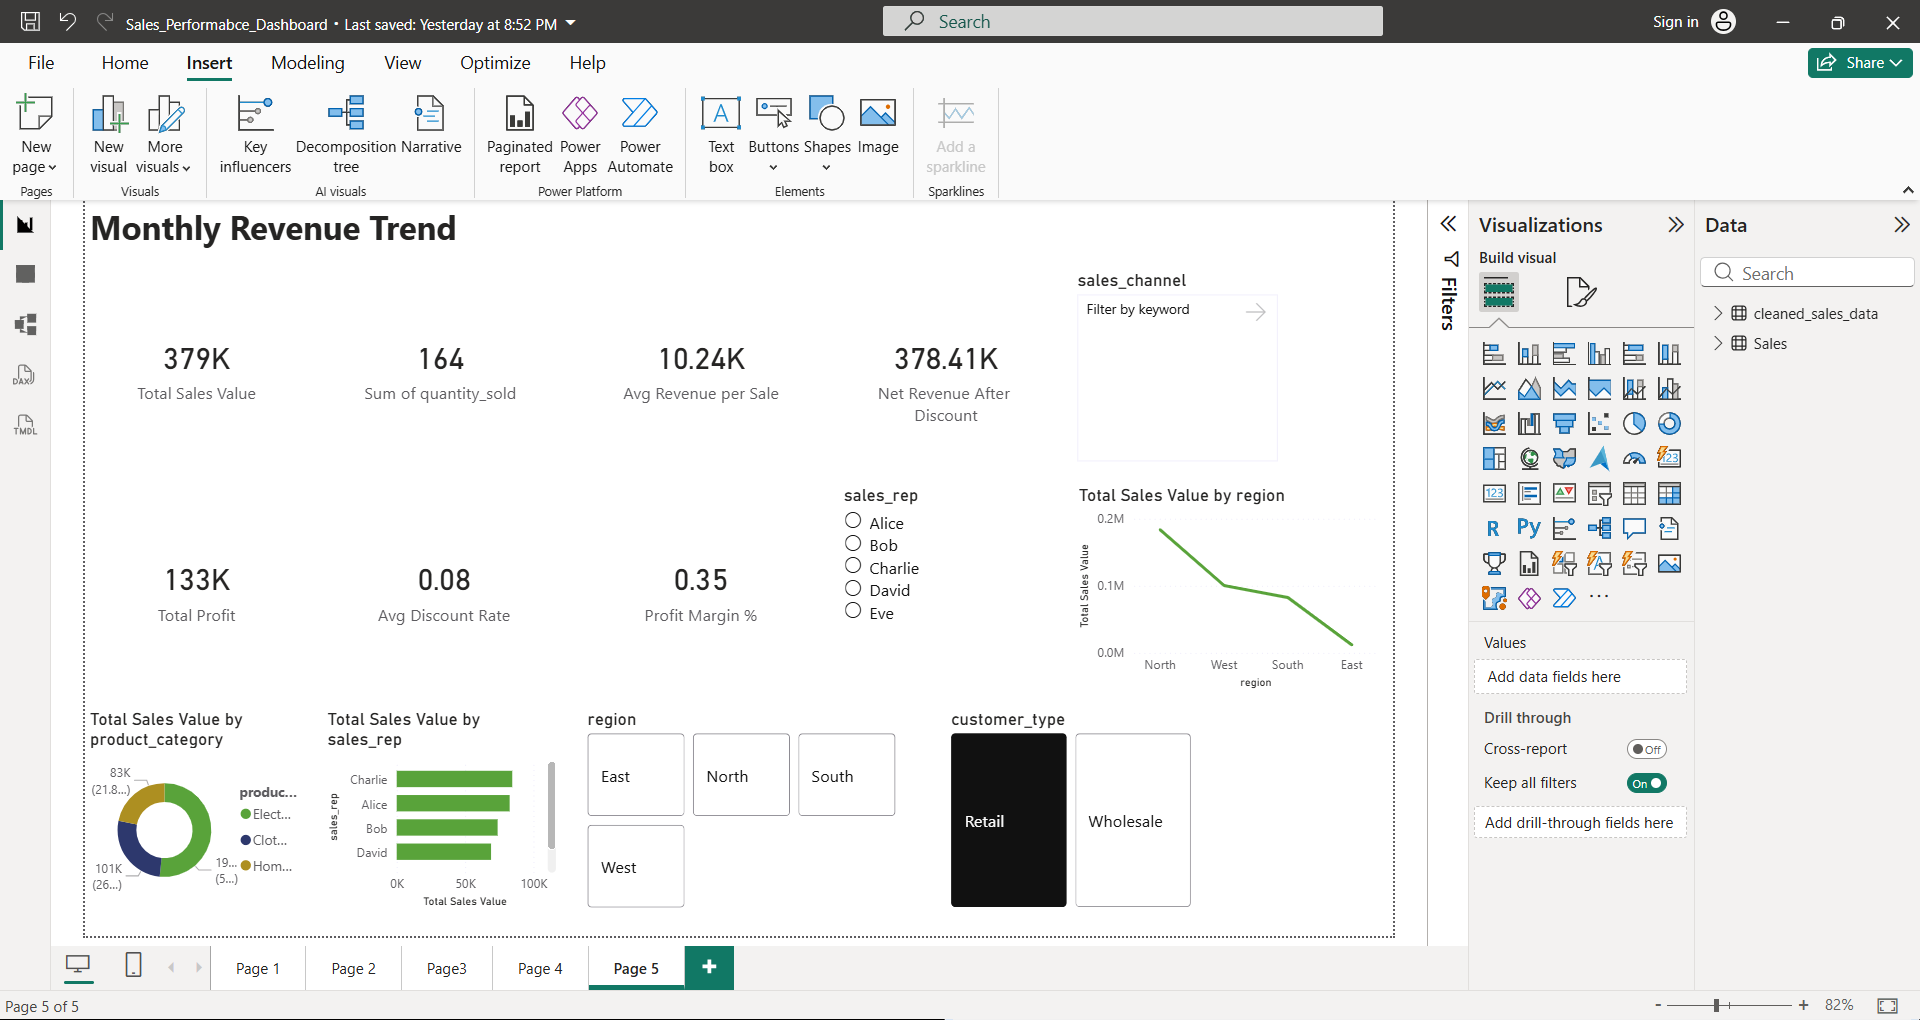

This screenshot's page, from the dashboard's own definition file:
{"tool":"powerbi","page":{"name":"Page 5","canvas":[1280,720],"ordinal":4},"visuals":[{"type":"card","fields":{"Values":["cleaned_sales_data.Total Sales Value"]},"box":[0,68.5,218.9,192],"z":0},{"type":"card","fields":{"Values":["Sum(cleaned_sales_data.quantity_sold)"]},"box":[229.9,68.5,236,192],"z":1000},{"type":"card","fields":{"Values":["cleaned_sales_data.Total Profit"]},"box":[0,278.8,218.9,204.2],"z":2000},{"type":"card","fields":{"Values":["cleaned_sales_data.Avg Discount Rate"]},"box":[234.8,278.8,233.6,204.2],"z":3000},{"type":"card","fields":{"Values":["cleaned_sales_data.Avg Revenue per Sale"]},"box":[486.7,68.5,232.3,192],"z":4000},{"type":"card","fields":{"Values":["cleaned_sales_data.Profit Margin %"]},"box":[486.7,278.8,232.3,204.2],"z":5000},{"type":"card","fields":{"Values":["cleaned_sales_data.Net Revenue After Discount"]},"box":[737.4,68.5,210.3,192],"z":6000},{"type":"lineChart","fields":{"Category":["cleaned_sales_data.region"],"Y":["cleaned_sales_data.Total Sales Value"]},"box":[967.3,278.8,302,204.2],"z":7000},{"type":"donutChart","fields":{"Category":["cleaned_sales_data.product_category"],"Y":["cleaned_sales_data.Total Sales Value"]},"box":[0,497.7,218.9,199.3],"z":8000},{"type":"barChart","fields":{"Category":["cleaned_sales_data.sales_rep"],"Y":["cleaned_sales_data.Total Sales Value"]},"box":[232.3,497.7,233.6,199.3],"z":9000},{"type":"advancedSlicerVisual","fields":{"Values":["cleaned_sales_data.region"]},"box":[486.7,497.7,313,199.3],"z":10000},{"type":"listSlicer","fields":{"Values":["cleaned_sales_data.sales_rep"]},"box":[737.4,278.8,210.3,204.2],"z":11000},{"type":"textSlicer","fields":{"Values":["cleaned_sales_data.sales_channel"]},"box":[966,68.5,205.4,192],"z":12000},{"type":"advancedSlicerVisual","fields":{"Values":["cleaned_sales_data.customer_type"]},"box":[842.5,497.7,245.8,199.3],"z":13000},{"type":"textbox","box":[0,0,502.6,56.3],"z":13001}]}

Visuals, with their boxes on the page's 1280x720 design canvas (x1, y1, x2, y2). These are canvas units, not pixel positions in the 1920x1020 screenshot, which may show the page scaled, cropped or inside an application window:
card - cleaned_sales_data.Total Sales Value: <region>0, 68, 219, 260</region>
card - Sum(cleaned_sales_data.quantity_sold): <region>230, 68, 466, 260</region>
card - cleaned_sales_data.Total Profit: <region>0, 279, 219, 483</region>
card - cleaned_sales_data.Avg Discount Rate: <region>235, 279, 468, 483</region>
card - cleaned_sales_data.Avg Revenue per Sale: <region>487, 68, 719, 260</region>
card - cleaned_sales_data.Profit Margin %: <region>487, 279, 719, 483</region>
card - cleaned_sales_data.Net Revenue After Discount: <region>737, 68, 948, 260</region>
lineChart - cleaned_sales_data.region x cleaned_sales_data.Total Sales Value: <region>967, 279, 1269, 483</region>
donutChart - cleaned_sales_data.product_category x cleaned_sales_data.Total Sales Value: <region>0, 498, 219, 697</region>
barChart - cleaned_sales_data.sales_rep x cleaned_sales_data.Total Sales Value: <region>232, 498, 466, 697</region>
advancedSlicerVisual - cleaned_sales_data.region: <region>487, 498, 800, 697</region>
listSlicer - cleaned_sales_data.sales_rep: <region>737, 279, 948, 483</region>
textSlicer - cleaned_sales_data.sales_channel: <region>966, 68, 1171, 260</region>
advancedSlicerVisual - cleaned_sales_data.customer_type: <region>842, 498, 1088, 697</region>
textbox: <region>0, 0, 503, 56</region>
